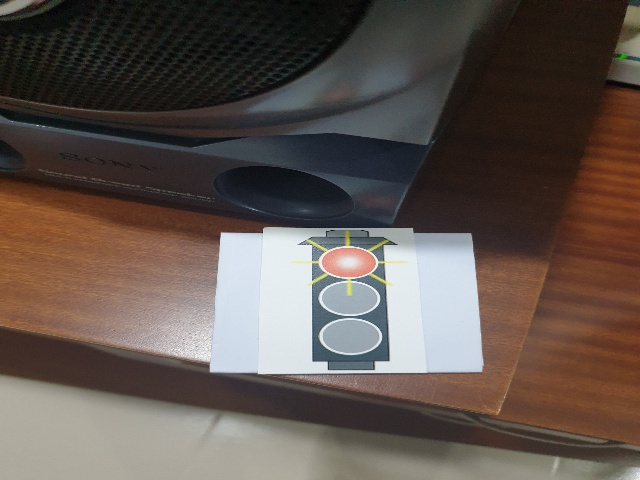Red Light: (290, 227, 412, 374)
